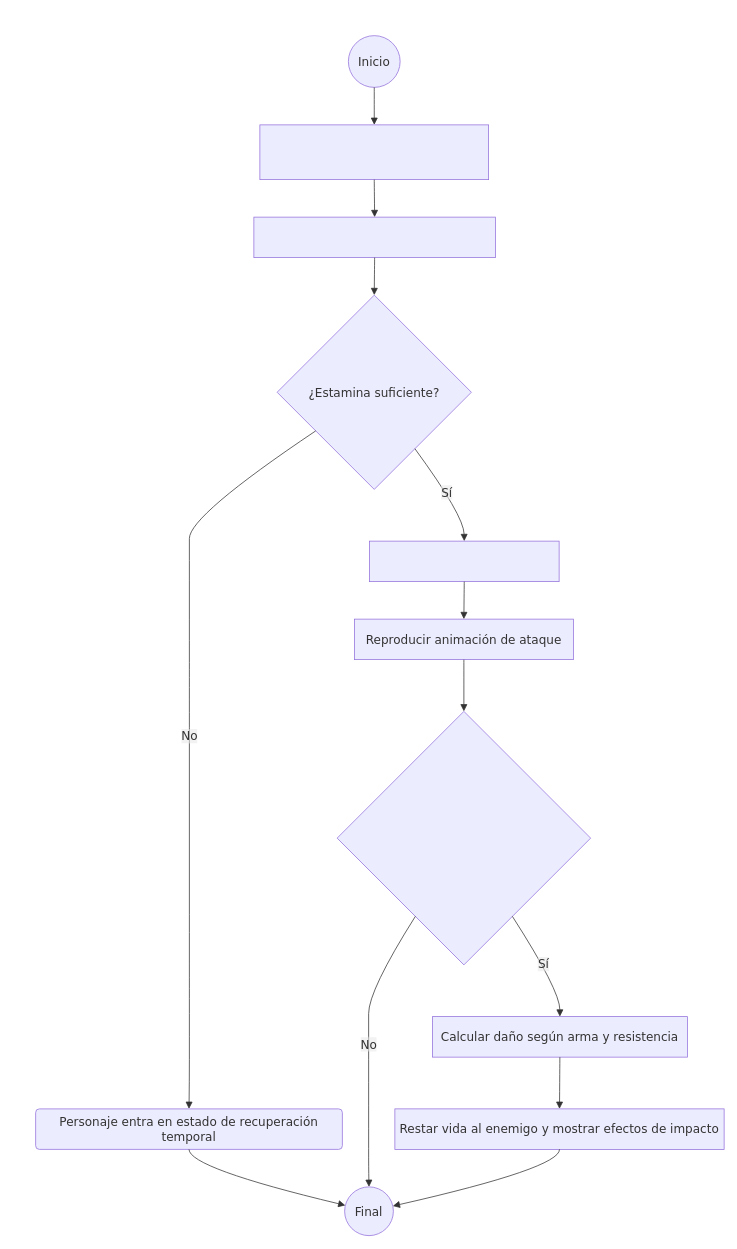
Image size: 737x1249. Some labels were removed from this diagram. The shapes that lost their labels are listed below. From the top down, each one's box as (x1, y1, x2, y2) in pixels, then its label:
(259, 124, 489, 180): Jugador presiona botón de ataque (clic izquierdo)
(253, 216, 495, 258): Sistema verifica estamina disponible
(369, 540, 559, 582): Sistema consume estamina
(336, 711, 591, 965): ¿Hitbox choca con enemigo?
